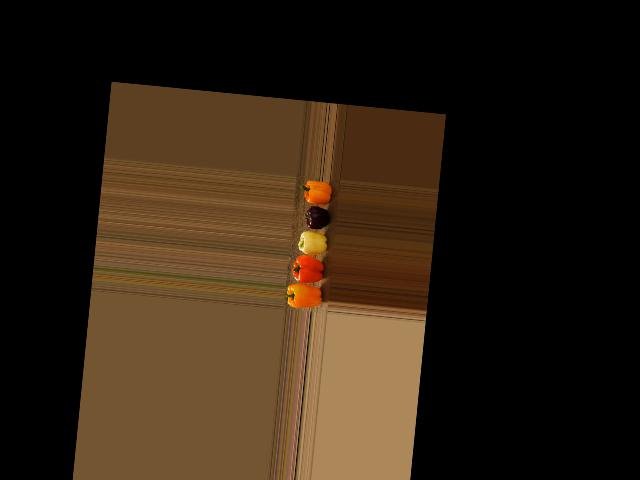bell_pepper: (298, 176, 339, 204)
